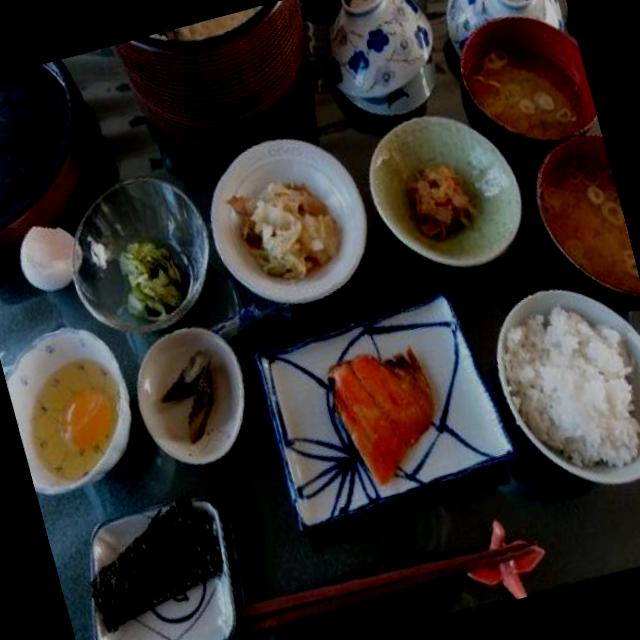Rice: (506, 301, 640, 468)
